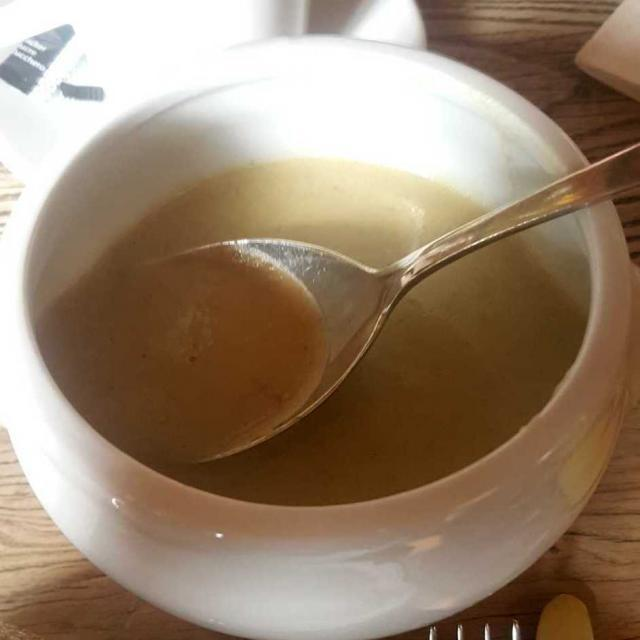soup: (37, 143, 579, 504)
